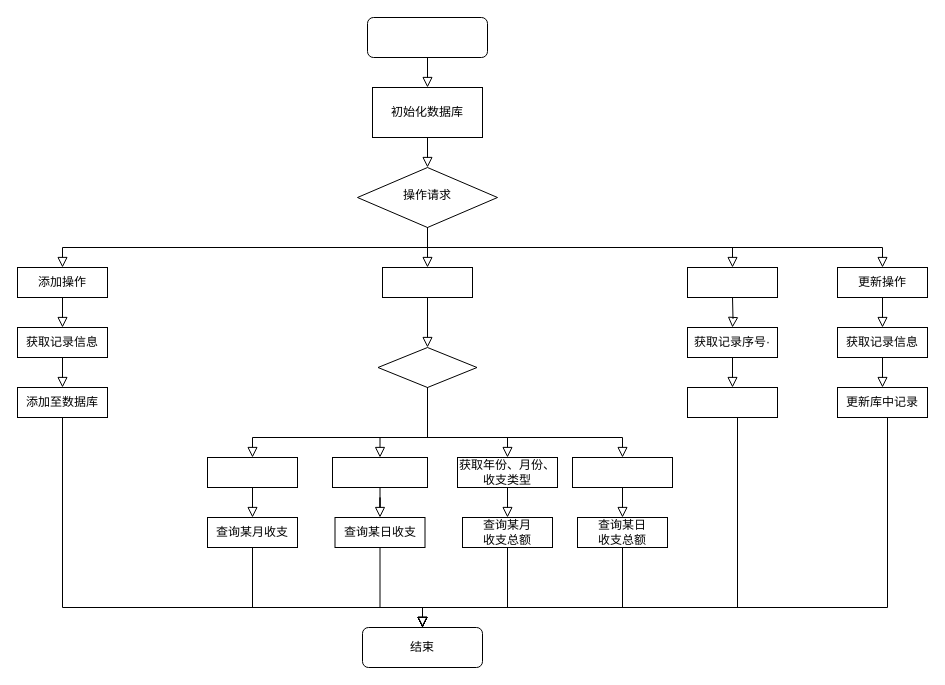
Some shapes in this 945 by 685 pixel diagram are drawn without their labels. The shapes that lost their labels are listed below. From the top down, each one's centre as x and y in pixels, then its label:
At (427,37): "开始".
At (427,282): "查询操作".
At (732,282): "删除操作".
At (427,367): "查询类型".
At (732,402): "删除库中记录".
At (252,472): "获取年份、月份".
At (380,472): "获取年份、 月份、日期".
At (622,472): "获取年份、月份、 日期、收支类型".
